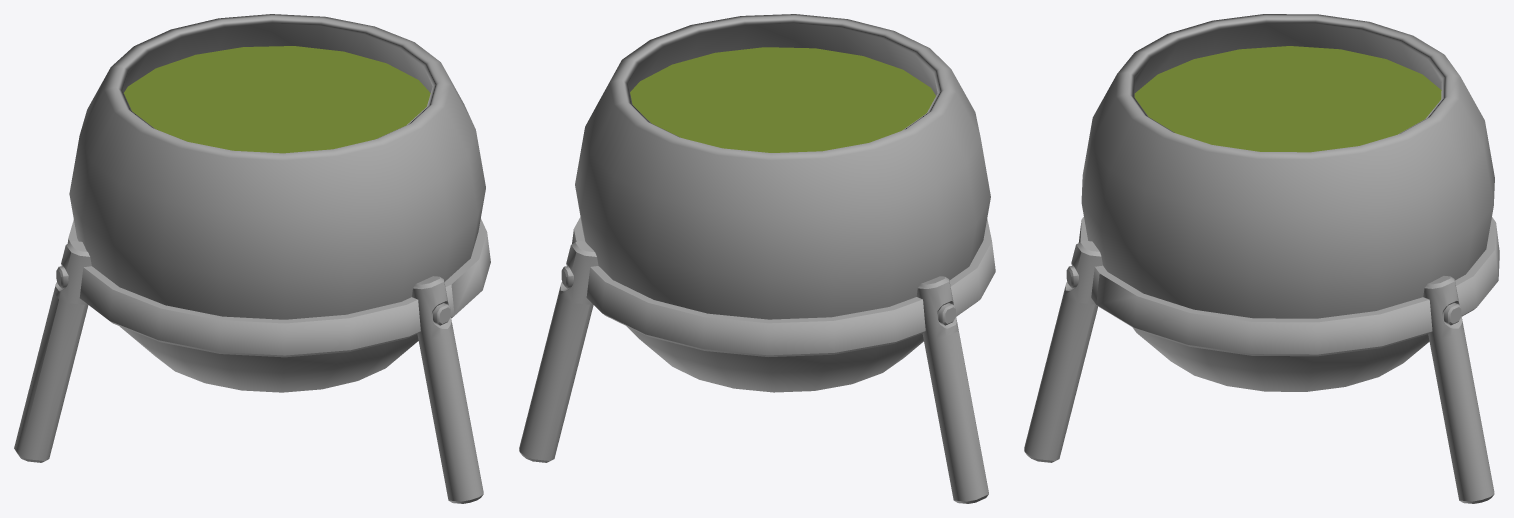
Rendered from pots door.fbx.
The picture shows the model from 3 angles, left to right: view 1: azimuth 30°, elevation 25°; view 2: azimuth 150°, elevation 25°; view 3: azimuth 270°, elevation 25°; orthographic projection.
Parts seen in each view (by area): view 1: polySurface2075, circle_pots2; view 2: polySurface2075, circle_pots2; view 3: polySurface2075, circle_pots2.
Part boxes in pixels (bbox=[...]): polySurface2075: bbox=[14, 14, 490, 503]; circle_pots2: bbox=[124, 46, 430, 153]; polySurface2075: bbox=[519, 14, 995, 503]; circle_pots2: bbox=[630, 47, 935, 152]; polySurface2075: bbox=[1024, 14, 1499, 503]; circle_pots2: bbox=[1134, 46, 1441, 152].
Bounding box in the file's own units: 0.5697 × 0.45 × 0.5646.
